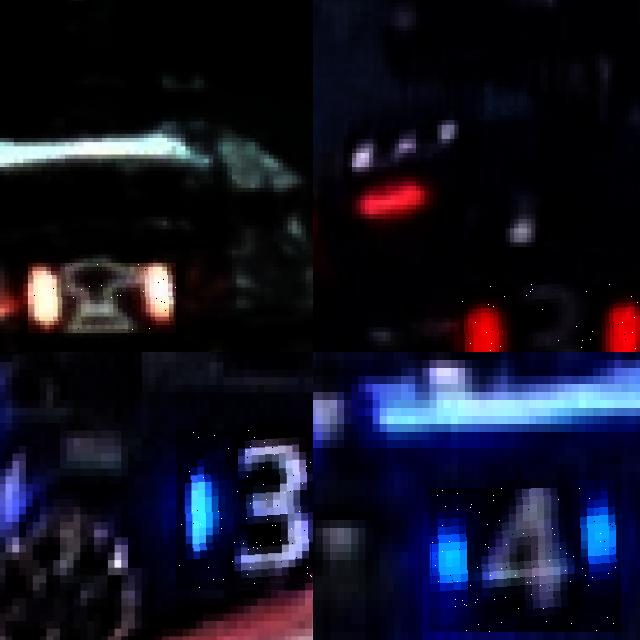B3: (175, 430, 313, 590)
B4: (429, 488, 622, 632)
R3: (458, 284, 640, 352)
Rs: (28, 263, 176, 333)
